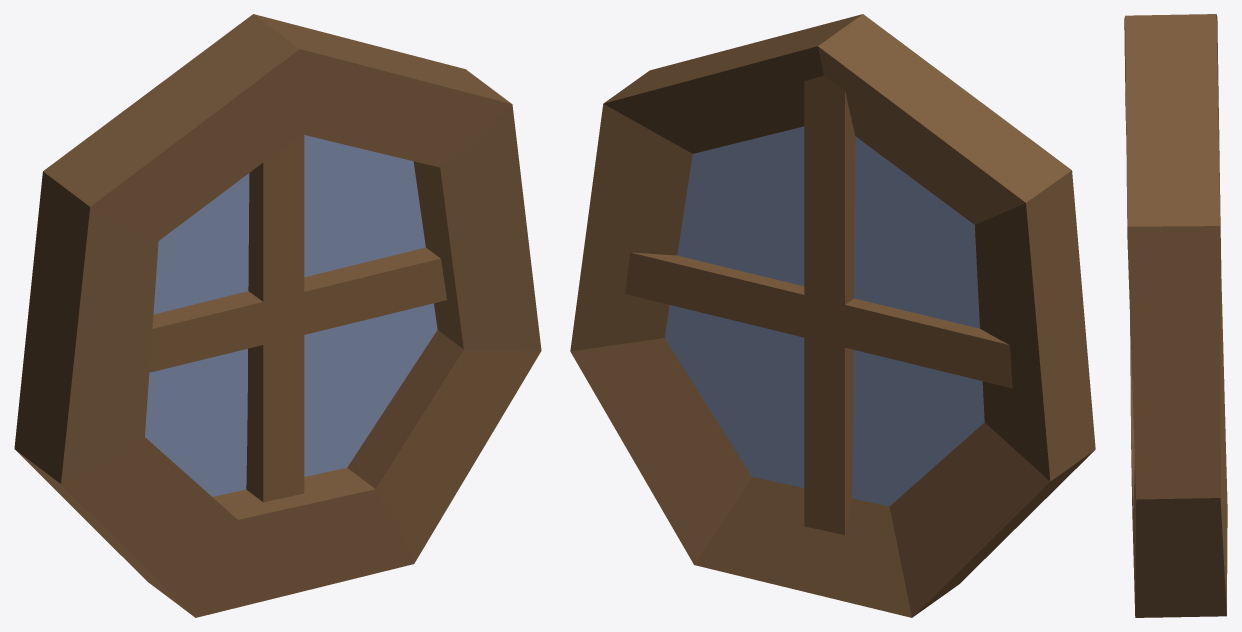
Rendered from Window_Oval.fbx.
3 renders of one model, left to right at view 1: azimuth 30°, elevation 25°; view 2: azimuth 150°, elevation 25°; view 3: azimuth 270°, elevation 25°, orthographic.
Parts seen in each view (by area): view 1: Window_Oval; view 2: Window_Oval; view 3: Window_Oval.
Part boxes in pixels (left/top/right/bottom): Window_Oval: left=14, top=14, right=541, bottom=617; Window_Oval: left=570, top=14, right=1095, bottom=617; Window_Oval: left=1124, top=14, right=1227, bottom=617.
Size of the model in its own units: 79.39 by 86.06 by 14.76.
